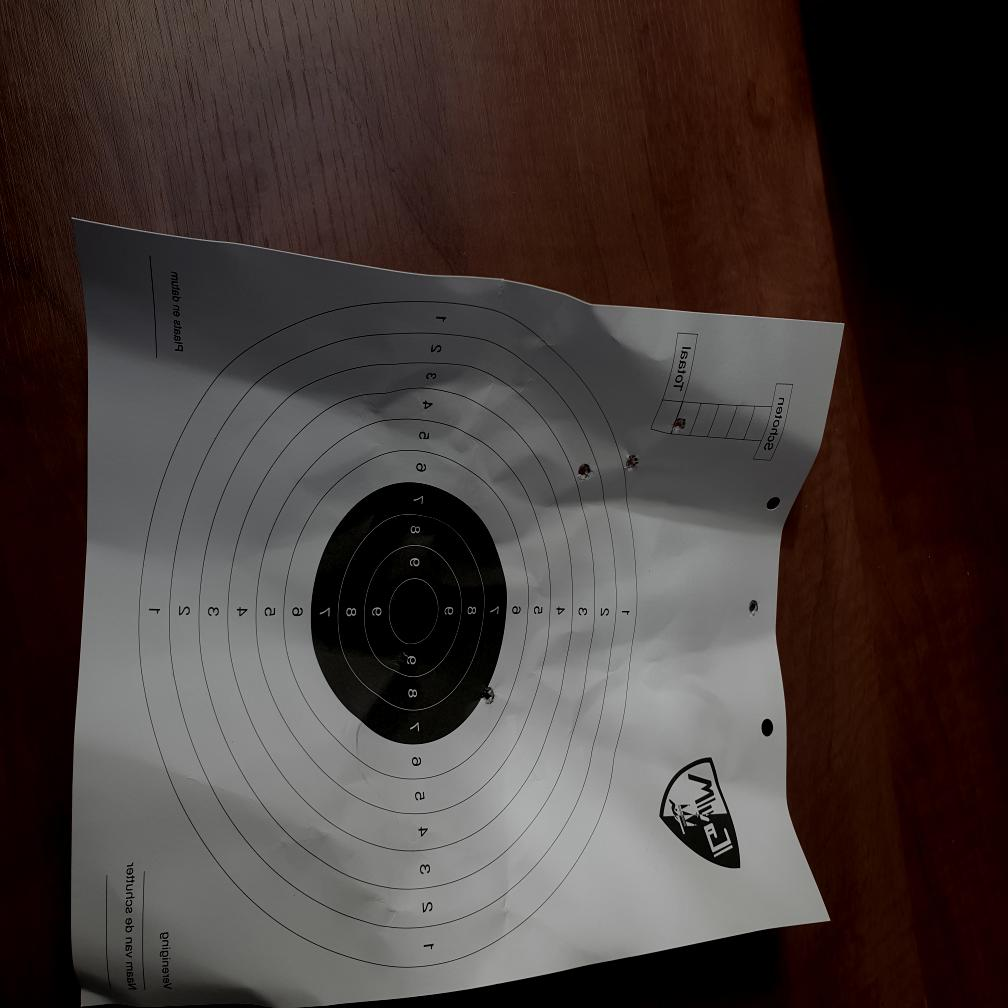0: (624, 452, 639, 472), (670, 418, 687, 434), (748, 599, 759, 617)
2: (577, 462, 594, 482)
7: (480, 686, 494, 705)
Target: (136, 298, 638, 970)
black_contour: (310, 483, 508, 744)
